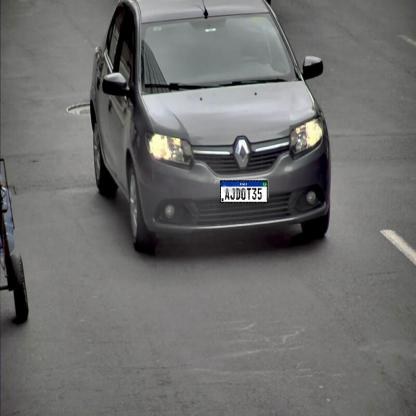PlacaM: (220, 180, 268, 203)
